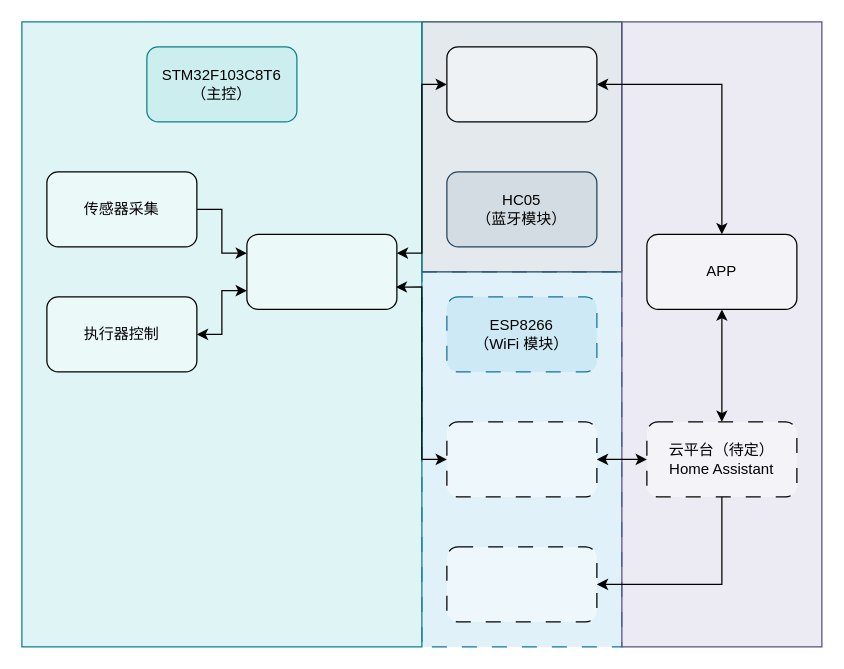
Some shapes in this 844 by 669 pixel diagram are drawn without their labels. The centre of each missing label's shape, as x and y in pixels:
"OTA 升级" belongs at point 521,584.
"云端通信" belongs at point 521,459.
"控制逻辑处理" belongs at point 321,271.
"蓝牙通信" belongs at point 521,84.
